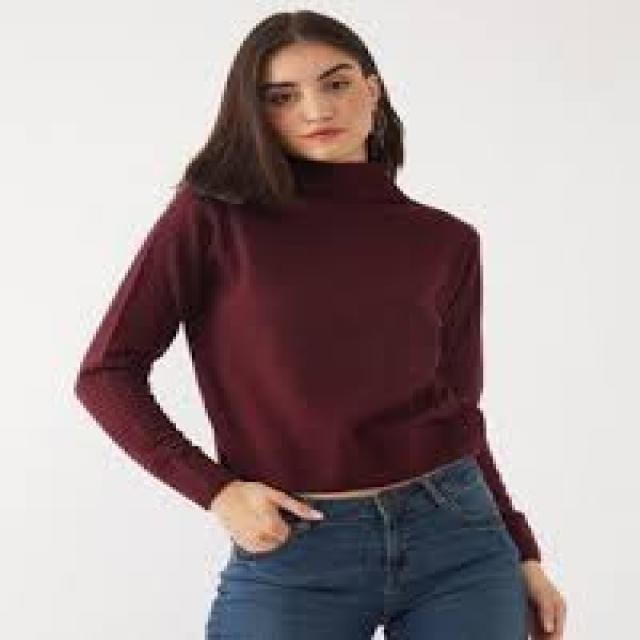plain: (69, 159, 500, 478)
